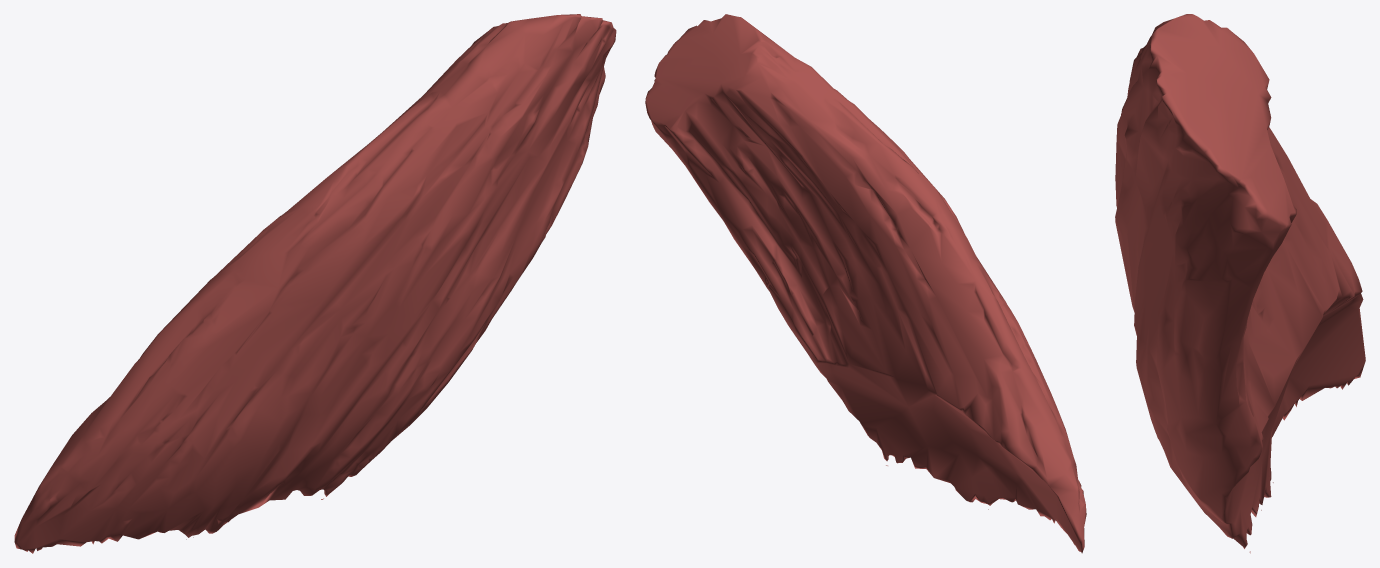
File: FMA46313.glb
3 views of the same model, side by side, from view 1: azimuth 30°, elevation 25°; view 2: azimuth 150°, elevation 25°; view 3: azimuth 270°, elevation 25° (orthographic). The views are drawn at different scales.
Parts seen in each view (by area): view 1: FMA46313; view 2: FMA46313; view 3: FMA46313.
Part boxes in pixels (bbox=[...]): FMA46313: bbox=[14, 14, 616, 553]; FMA46313: bbox=[645, 14, 1086, 553]; FMA46313: bbox=[1115, 14, 1365, 553].
Size of the model in its own units: 0.0242 by 0.0198 by 0.00651.
